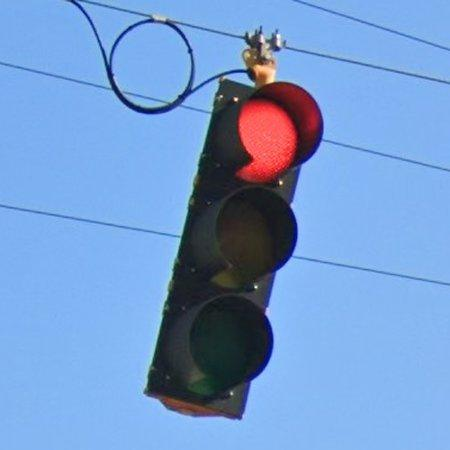traffic lights: (143, 75, 325, 422)
